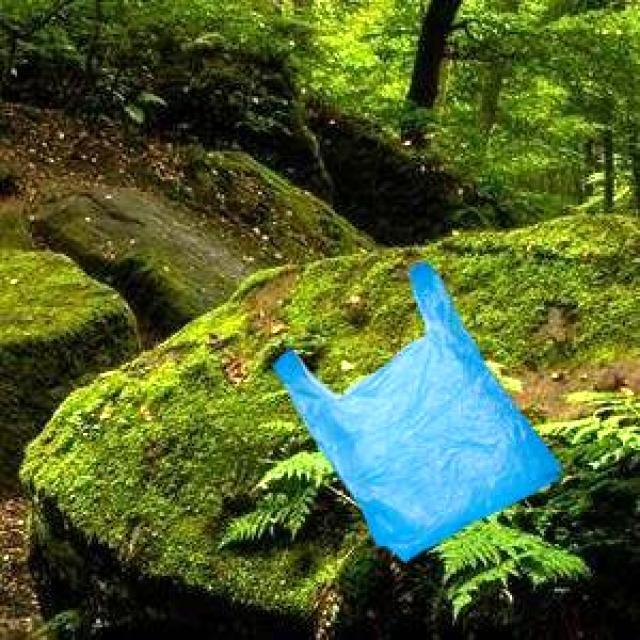Plastic_Bag: (270, 259, 558, 558)
